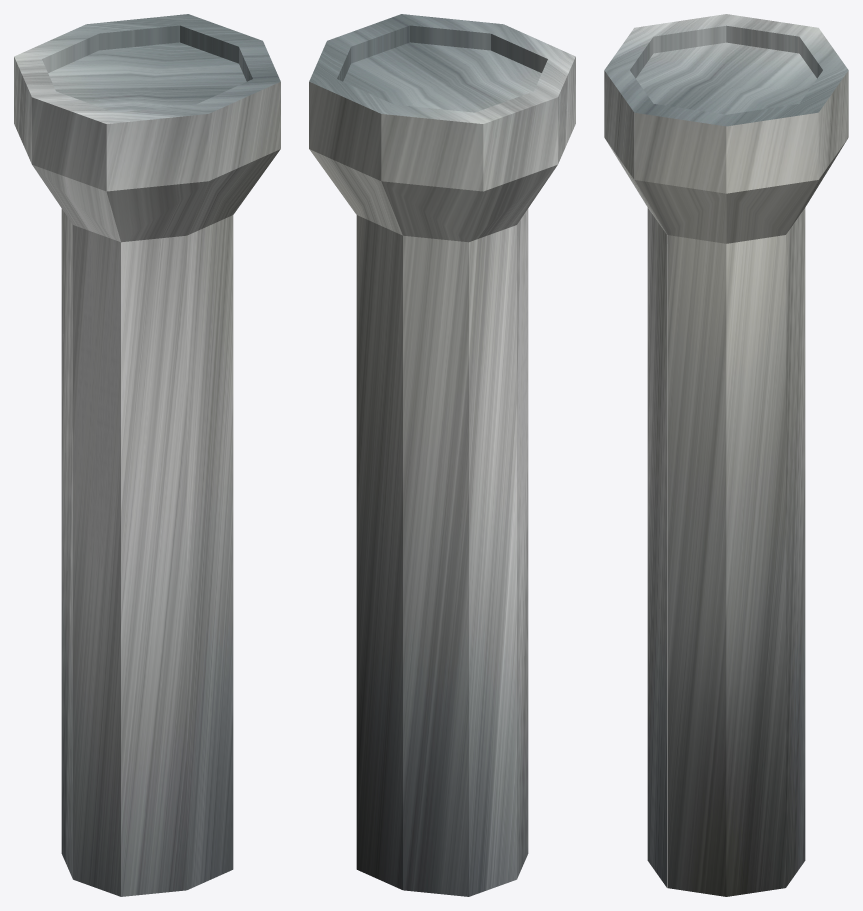
Rendered from flashlight.obj.
3 renders of one model, left to right at view 1: azimuth 30°, elevation 25°; view 2: azimuth 150°, elevation 25°; view 3: azimuth 270°, elevation 25°, orthographic.
Visible parts, largest first — view 1: flashlight_Cube; view 2: flashlight_Cube; view 3: flashlight_Cube.
Boxes of the visible parts, <box> form: flashlight_Cube: <box>14,14,280,896</box>; flashlight_Cube: <box>309,14,575,896</box>; flashlight_Cube: <box>604,14,848,896</box>.
Size of the model in its own units: 1.37 by 4.48 by 1.26.
